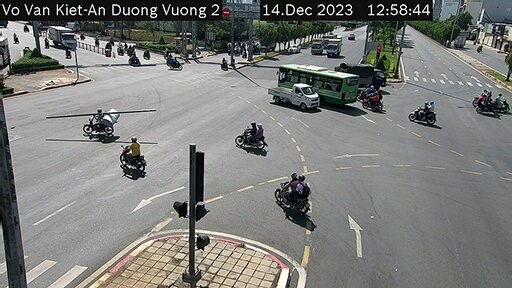bus: (267, 57, 367, 112)
motorbike: (116, 139, 161, 178), (277, 173, 315, 217), (83, 106, 128, 142), (233, 119, 272, 152), (409, 101, 432, 126), (363, 88, 385, 110)
truck: (262, 79, 321, 116), (337, 57, 387, 89), (49, 23, 75, 53), (325, 36, 343, 55), (305, 37, 325, 54)
